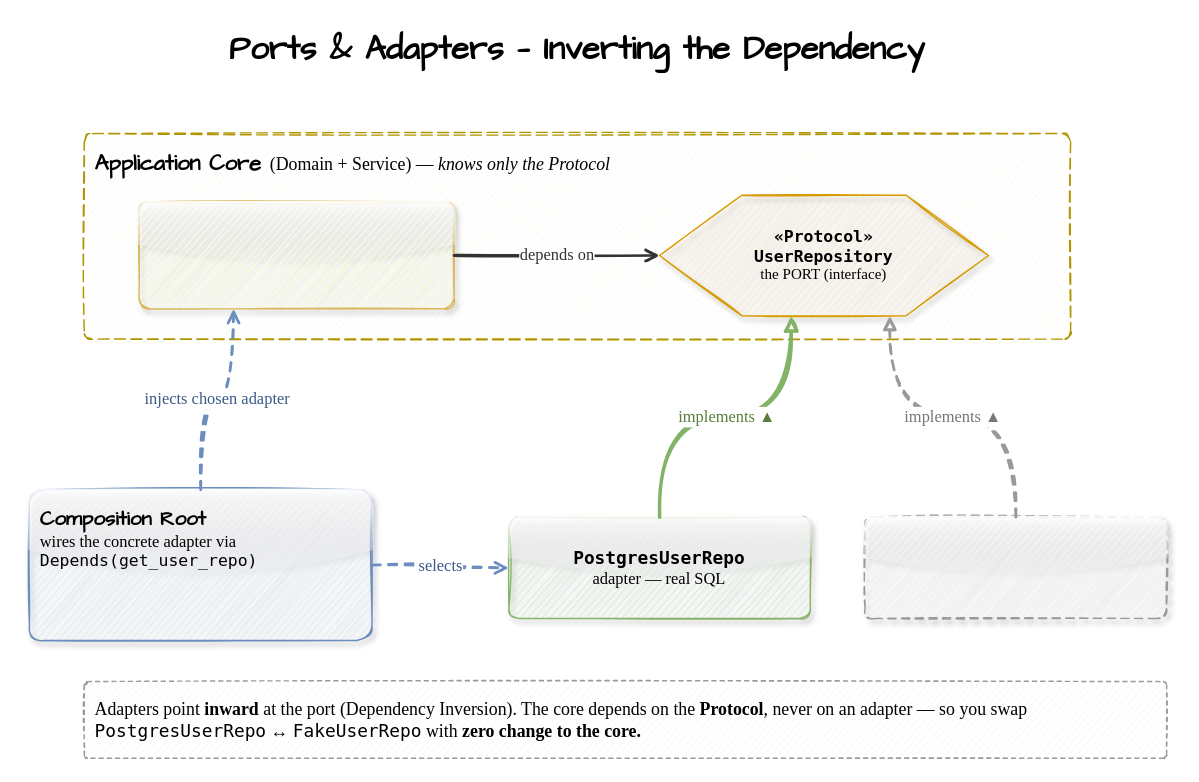
This 1199x782 diagram has some shape labels left out. The shapes that lost their labels are listed below. From the top down, each one's centre as x and y in pixels, then its label:
At pixel 297 257: "PlaceOrderUseCase calls repo.get(id) through the abstraction".
At pixel 1016 569: "FakeUserRepo adapter — in-memory (tests)".
